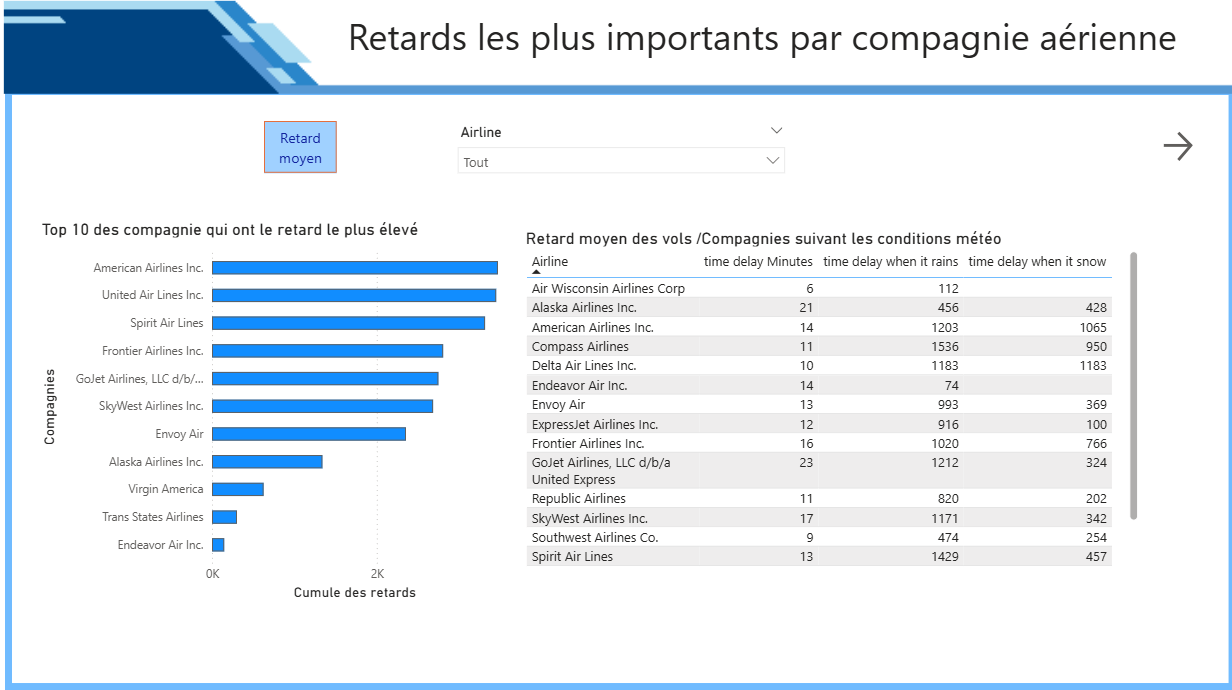

The dashboard page shown, as its layout file describes it:
{"tool":"powerbi","page":{"name":"Retards les plus importants par compagnie aérienne","canvas":[1280,720],"ordinal":1},"visuals":[{"type":"group","id":"g1","title":"Groupe 1","box":[0,0,1600,720],"z":0},{"type":"shape","box":[6.4,91.8,1273.6,628.2],"z":0,"group":"g1"},{"type":"image","box":[0,0,1600,108.9],"z":1000,"group":"g1"},{"type":"clusteredBarChart","title":"Top 10 des compagnie qui ont le retard le plus élevé","fields":{"Category":["flights average_delay_by_company.Airline"],"Y":["Mesures.cumule_des_retards_MAX"]},"box":[39,231,488.2,398.5],"z":1000},{"type":"shape","box":[13.6,103.6,1256.4,607.3],"z":2000,"group":"g1"},{"type":"tableEx","title":"Retard moyen des vols /Compagnies suivant les conditions météo ","fields":{"Values":["flights average_delay_by_company.Airline","flights average_delay_by_company.avg(ArrDelayMinutes)","Max(flights top_delay_by_weather.max(ArrDelayMinutes))","Max(flights top_delay_during_snow.ArrDelayMinutes)"]},"box":[538.8,240.5,642.1,358.2],"z":2000},{"type":"textbox","box":[355,10.9,865.8,67],"z":3000,"group":"g1"},{"type":"slicer","fields":{"Values":["flights top_delay_during_snow.Airline"]},"box":[463.5,129,358.2,55.7],"z":3000},{"type":"actionButton","box":[273.5,130.1,75.4,53.7],"z":4000},{"type":"actionButton","box":[1196.4,136.3,49.5,40.3],"z":5000}]}

Visuals, with their boxes in screenshot pixels (x1, y1, x2, y2), scaled from the page's 1280x720 canvas onto the 1232x690 screenshot:
"Groupe 1" group: [0, 0, 1231, 689]
shape: [6, 88, 1231, 689]
image: [0, 0, 1231, 104]
"Top 10 des compagnie qui ont le retard le plus élevé" clusteredBarChart: [38, 221, 507, 603]
shape: [13, 99, 1222, 681]
"Retard moyen des vols /Compagnies suivant les conditions météo " tableEx: [519, 230, 1137, 574]
textbox: [342, 10, 1175, 75]
slicer - flights top_delay_during_snow.Airline: [446, 124, 791, 177]
actionButton: [263, 125, 336, 176]
actionButton: [1152, 131, 1199, 169]
